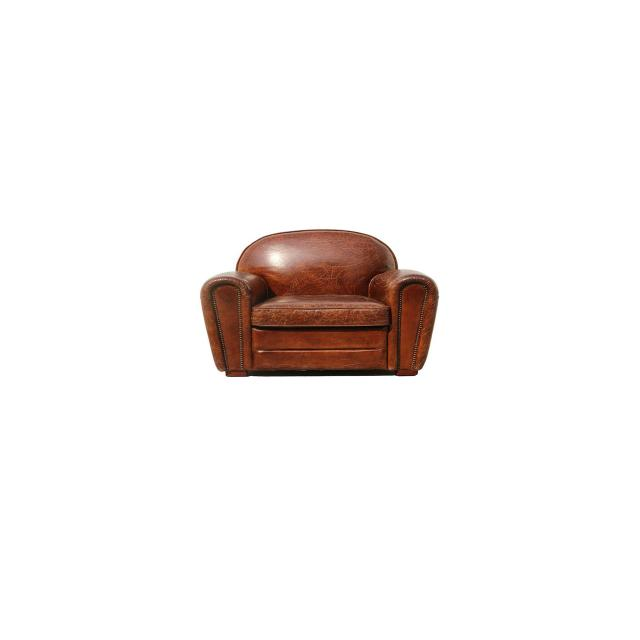obstacle: (180, 172, 462, 422)
